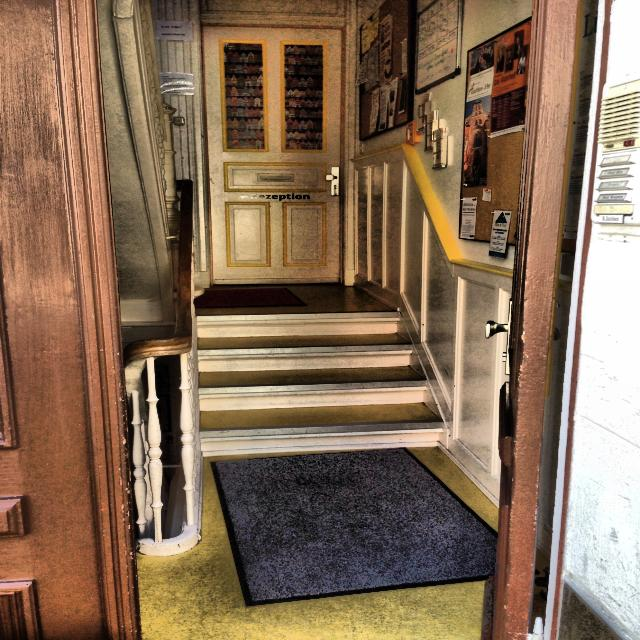escada: (193, 313, 442, 457)
